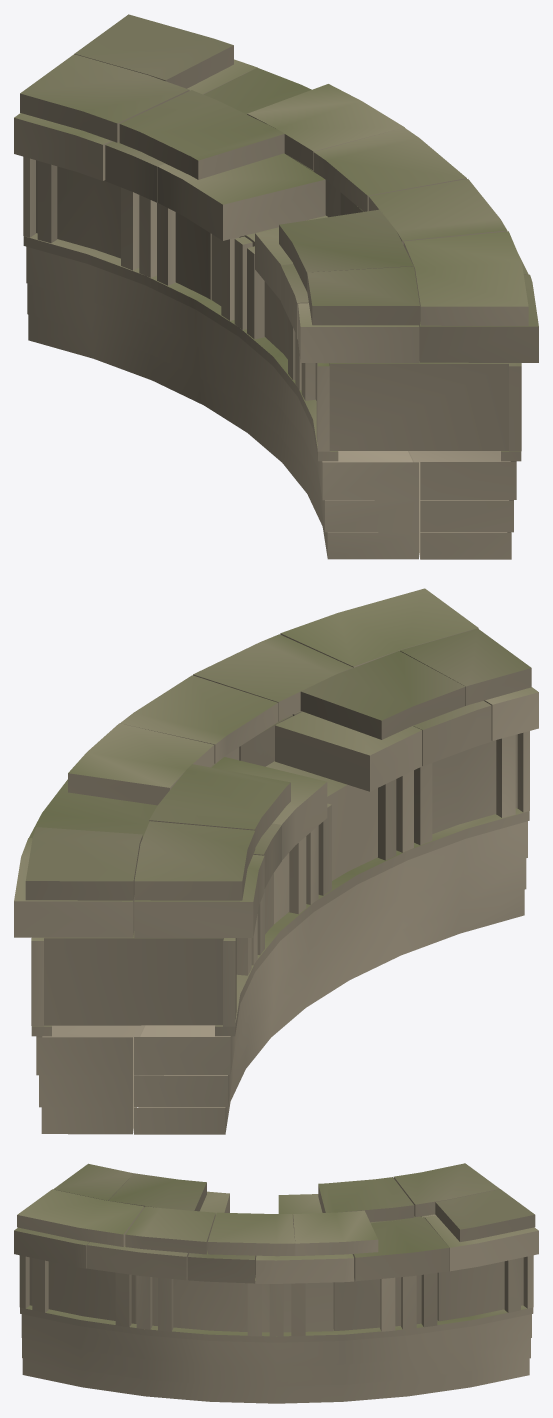
The model's file is tholos_lintel_mid.glb.
3 views of the same model, one above another, from view 1: azimuth 30°, elevation 25°; view 2: azimuth 150°, elevation 25°; view 3: azimuth 270°, elevation 25° (orthographic). The views are drawn at different scales.
Parts seen in each view (by area): view 1: tholos_lintel_mid; view 2: tholos_lintel_mid; view 3: tholos_lintel_mid.
Part boxes in pixels (box(x1,y1,x2,y2)): tholos_lintel_mid: box(14, 14, 538, 559); tholos_lintel_mid: box(14, 588, 538, 1134); tholos_lintel_mid: box(14, 1163, 538, 1403).
Bounding box in the file's own units: 8.47 × 7.48 × 21.67.
